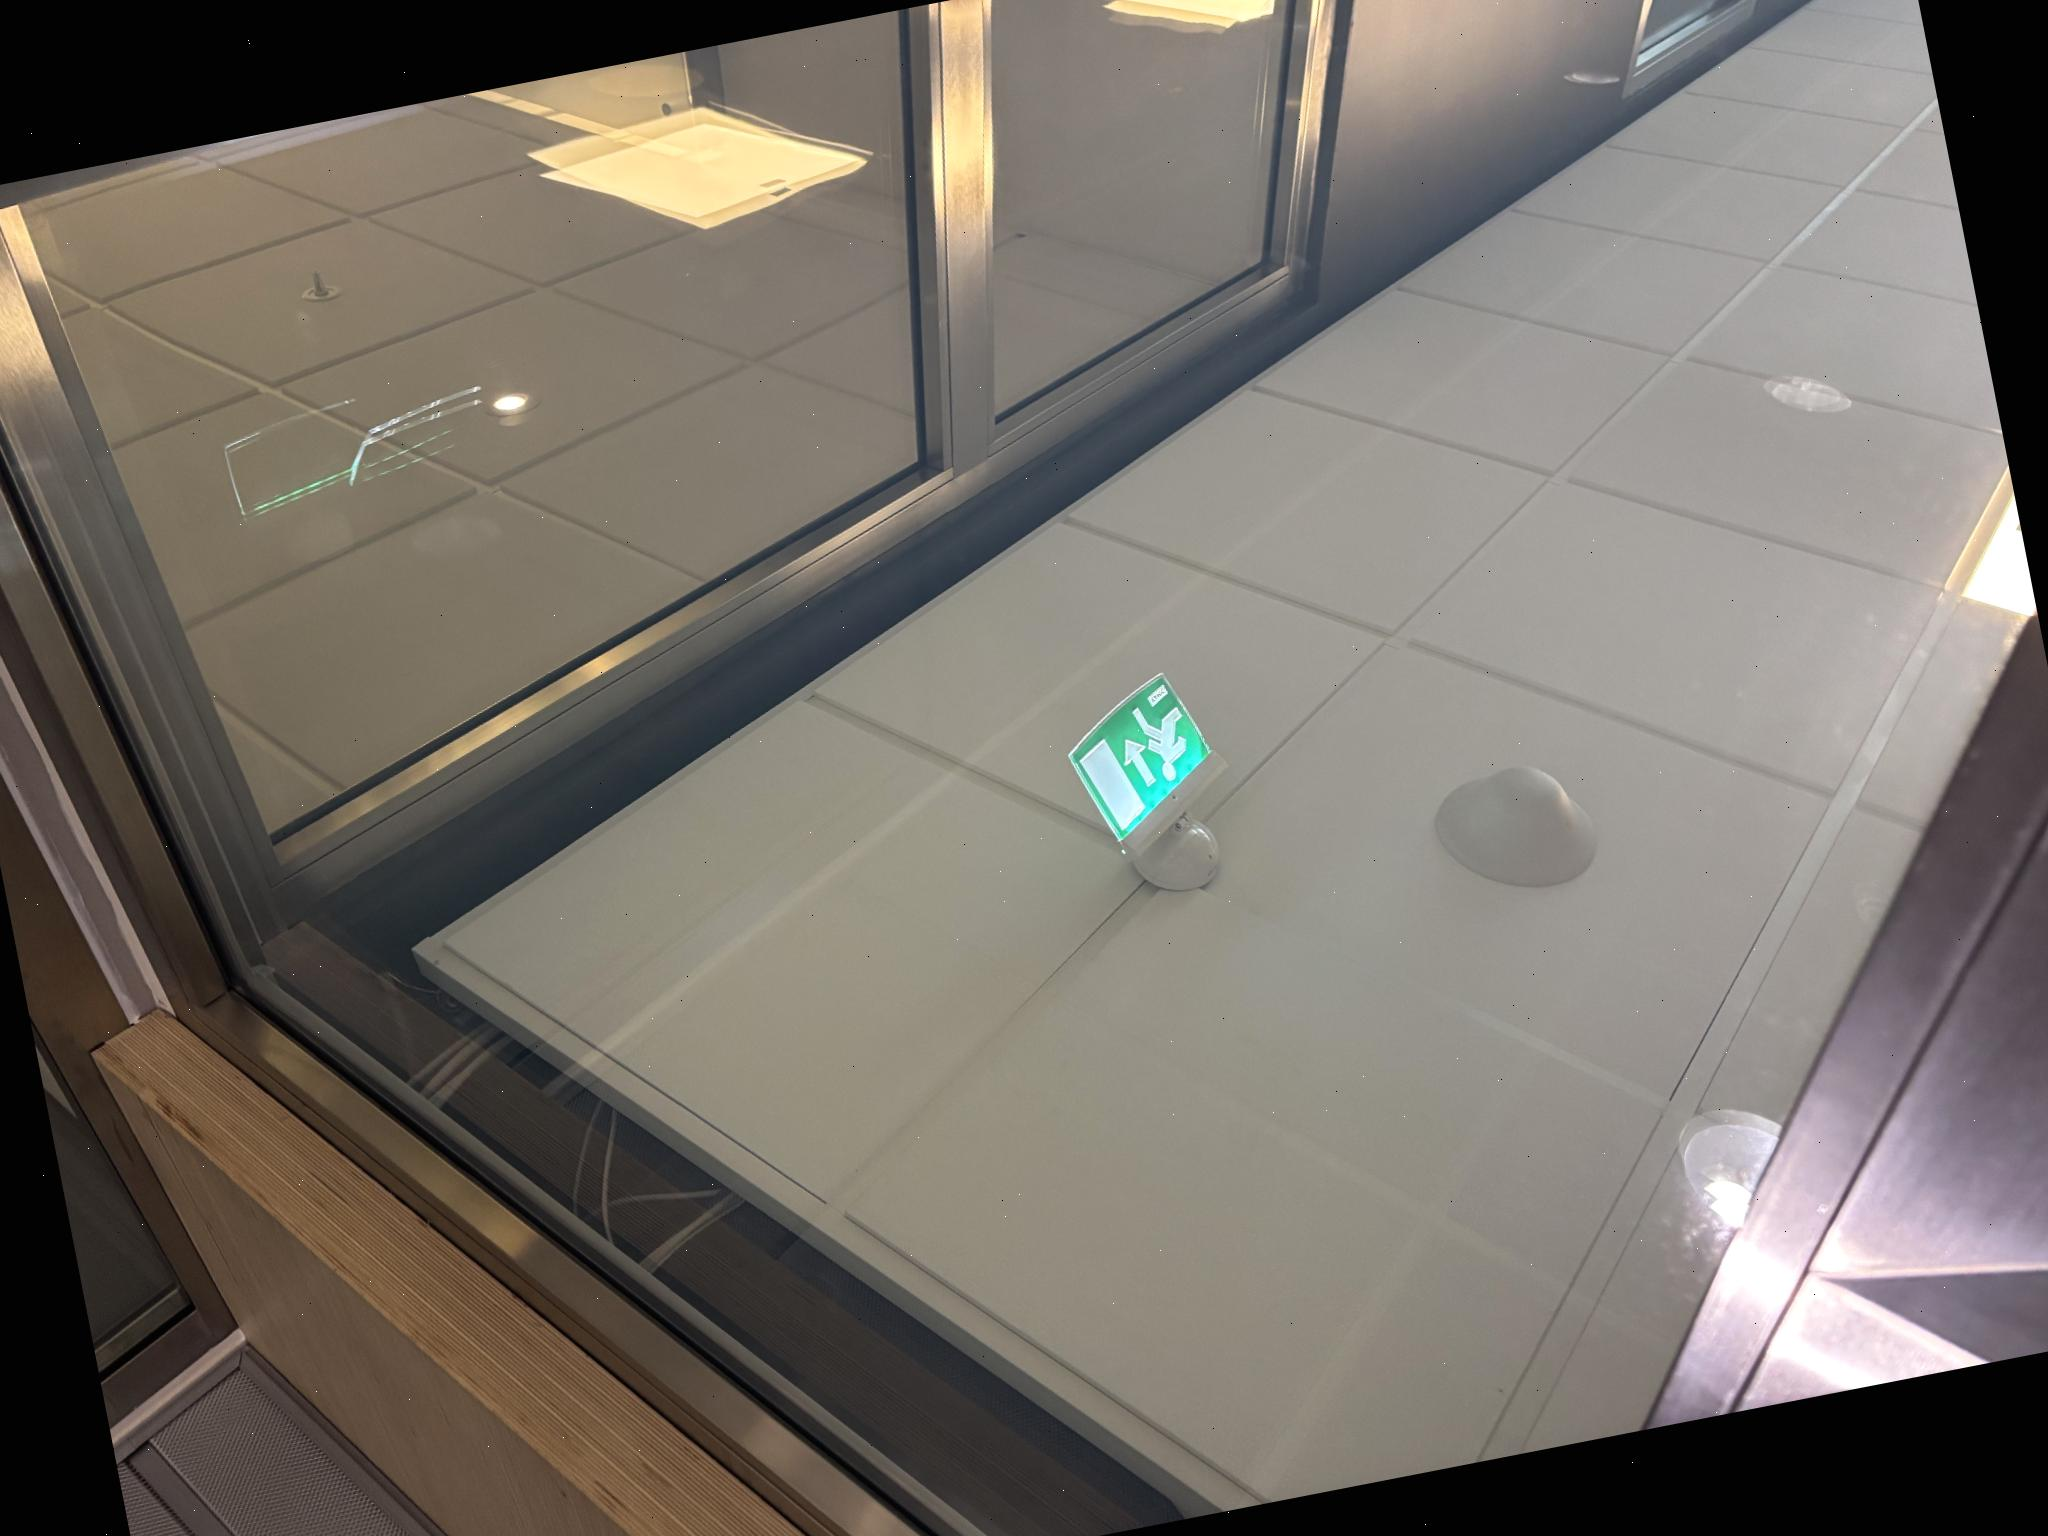exit_sign: (1064, 674, 1219, 854)
